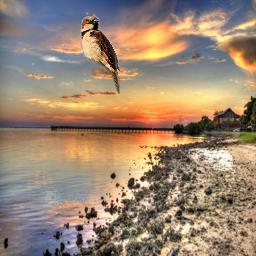Swallow: (80, 16, 120, 94)
